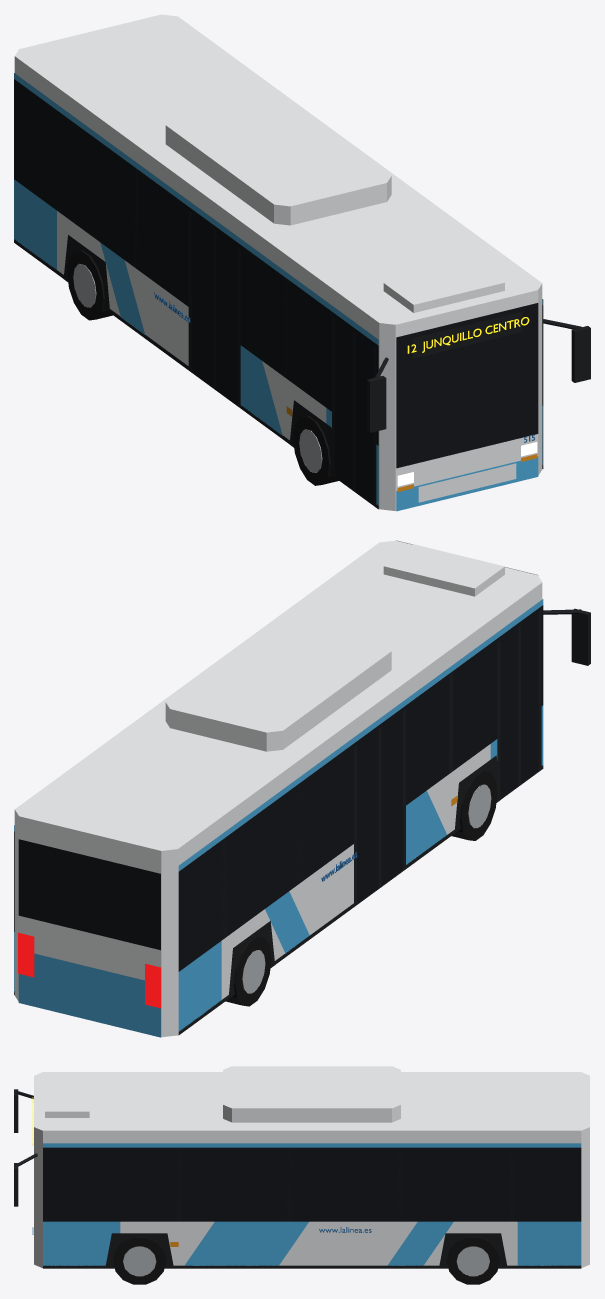
File: autobus.glb
3 renders of one model, top to bottom at view 1: azimuth 30°, elevation 25°; view 2: azimuth 150°, elevation 25°; view 3: azimuth 270°, elevation 25°, orthographic. The views are drawn at different scales.
Visible parts, largest first — view 1: Bus_carroceria, Bus_librea, Bus_ruedas, Bus_detalle; view 2: Bus_carroceria, Bus_librea, Bus_ruedas, Bus_detalle; view 3: Bus_librea, Bus_carroceria, Bus_ruedas, Bus_detalle.
Boxes of the visible parts, bbox=[...] form: Bus_carroceria: bbox=[14, 14, 542, 510]; Bus_librea: bbox=[14, 73, 543, 511]; Bus_ruedas: bbox=[67, 250, 338, 485]; Bus_detalle: bbox=[367, 319, 590, 432]; Bus_carroceria: bbox=[14, 540, 542, 1037]; Bus_librea: bbox=[14, 540, 543, 1037]; Bus_ruedas: bbox=[225, 771, 497, 1006]; Bus_detalle: bbox=[543, 608, 590, 665]; Bus_librea: bbox=[43, 1143, 581, 1268]; Bus_carroceria: bbox=[34, 1066, 589, 1268]; Bus_ruedas: bbox=[113, 1237, 499, 1284]; Bus_detalle: bbox=[14, 1089, 37, 1206].
Bounding box in the file's own units: 3.39 × 3.32 × 10.38.
4 materials, 4 textured.
